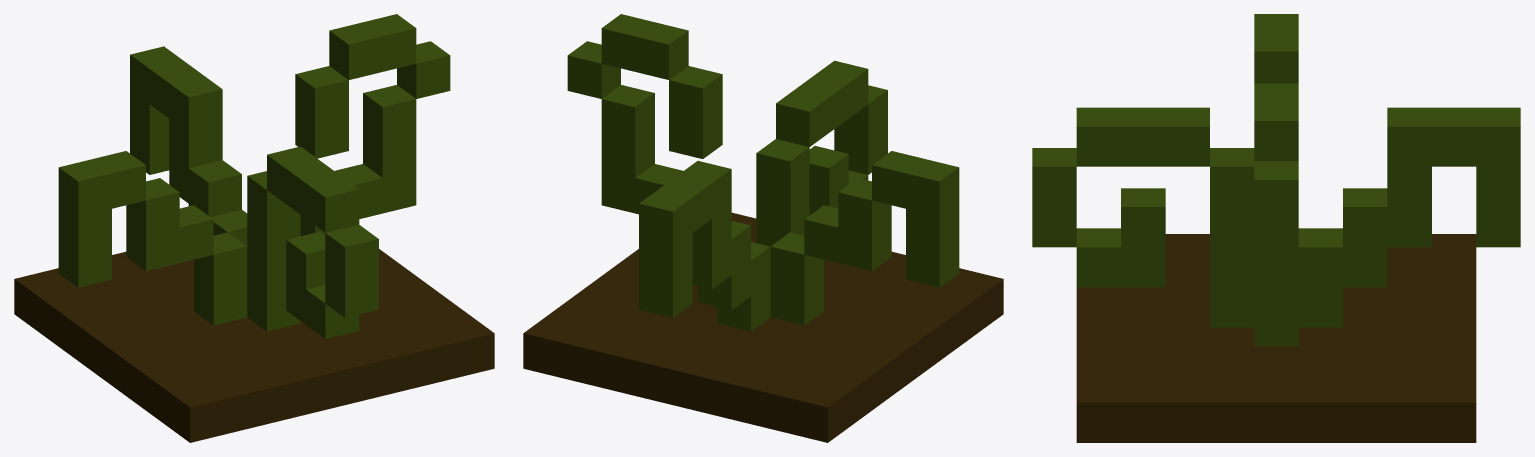
Rendered from Plant00.gltf.
3 renders of one model, left to right at view 1: azimuth 30°, elevation 25°; view 2: azimuth 150°, elevation 25°; view 3: azimuth 270°, elevation 25°, orthographic. The views are drawn at different scales.
Parts seen in each view (by area): view 1: Plant00, PlantSoil; view 2: Plant00, PlantSoil; view 3: Plant00, PlantSoil.
Boxes of the visible parts, x1,y1,x2,y2 form: Plant00: (58,14,450,338); PlantSoil: (14,249,494,442); Plant00: (567,14,959,331); PlantSoil: (523,212,1003,442); Plant00: (1032,14,1520,346); PlantSoil: (1076,234,1476,442).
Size of the model in its own units: 11 by 8 by 11.
